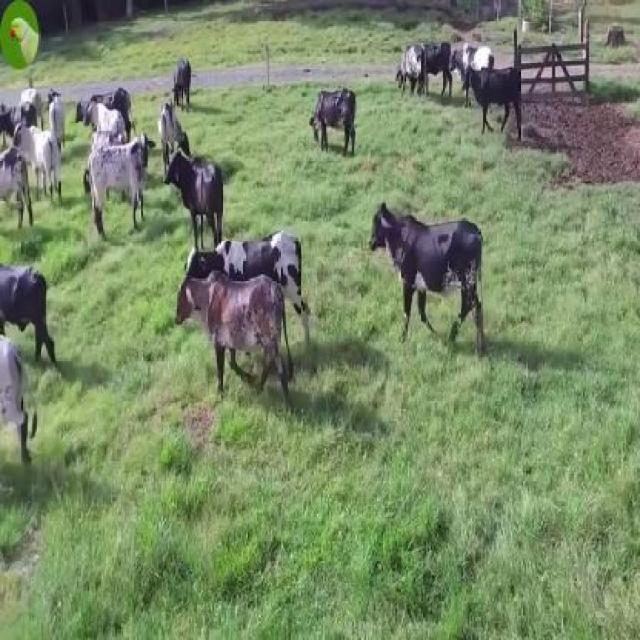Cow: (368, 203, 483, 352), (176, 275, 286, 394), (86, 129, 157, 234)
